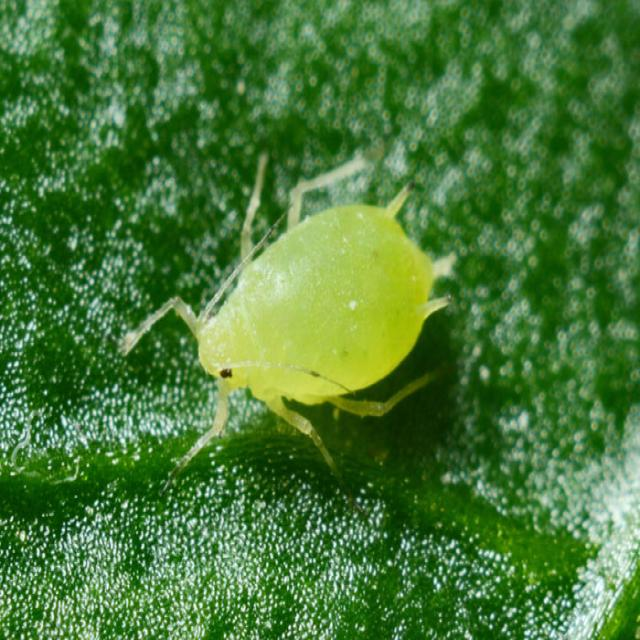aphid: (119, 137, 456, 517)
